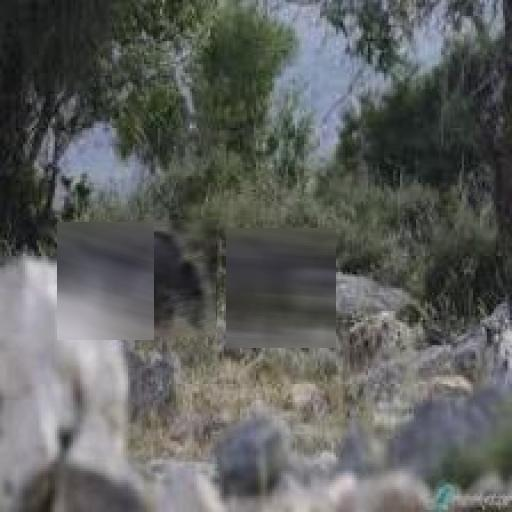Pig: (226, 228, 336, 348), (117, 220, 216, 337), (57, 222, 154, 340)
